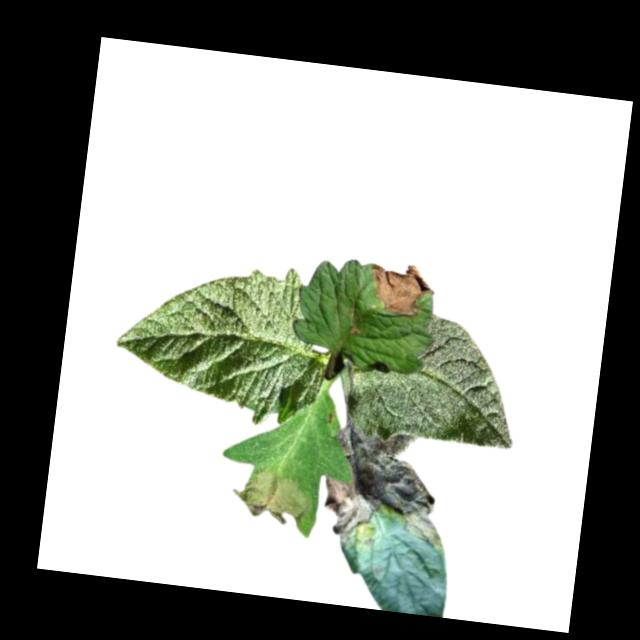Late_blight: (315, 425, 456, 560), (224, 465, 312, 527), (367, 259, 437, 320)
healthy: (107, 245, 334, 433), (342, 304, 526, 453)
